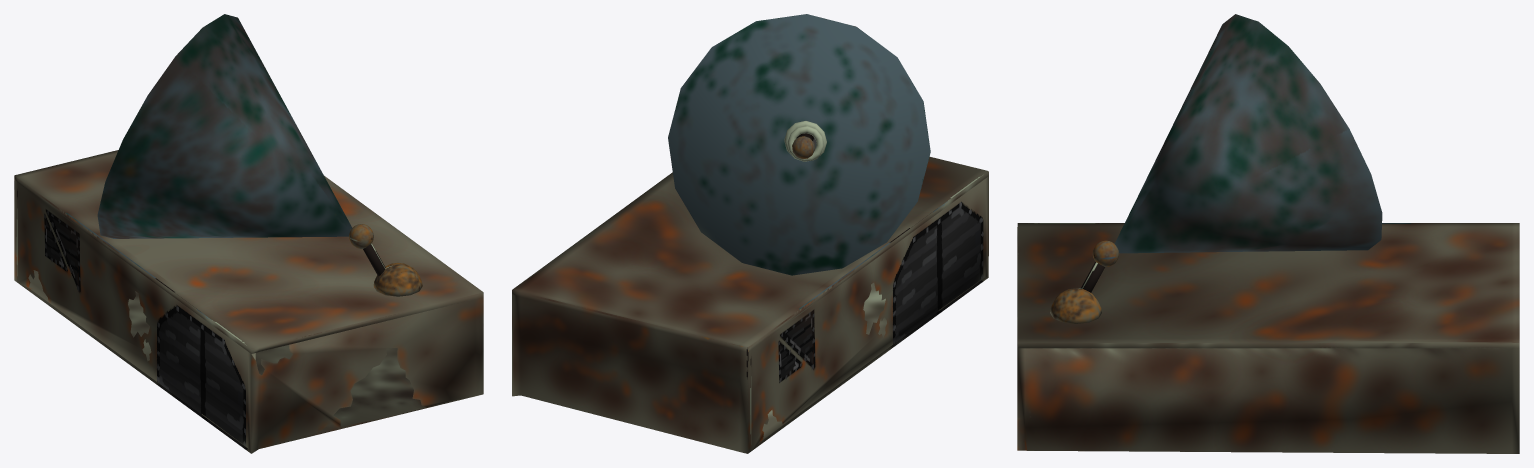
3 renders of one model, left to right at view 1: azimuth 30°, elevation 25°; view 2: azimuth 150°, elevation 25°; view 3: azimuth 270°, elevation 25°, orthographic. The views are drawn at different scales.
Visible parts, largest first — view 1: building, Satelite, Support, Hindges; view 2: building, Satelite, Torus; view 3: building, Satelite, Support, Hindges.
Boxes of the visible parts, x1=… form: building: x1=14, y1=150, x2=483, y2=453; Satelite: x1=97, y1=14, x2=352, y2=238; Support: x1=373, y1=263, x2=422, y2=296; Hindges: x1=349, y1=224, x2=373, y2=248; building: x1=512, y1=156, x2=988, y2=453; Satelite: x1=668, y1=14, x2=930, y2=275; Torus: x1=784, y1=121, x2=826, y2=161; building: x1=1017, y1=223, x2=1519, y2=453; Satelite: x1=1114, y1=14, x2=1382, y2=253; Support: x1=1050, y1=288, x2=1101, y2=323; Hindges: x1=1092, y1=240, x2=1119, y2=266.
Bounding box in the file's own units: 2538 × 3771 × 2868.
